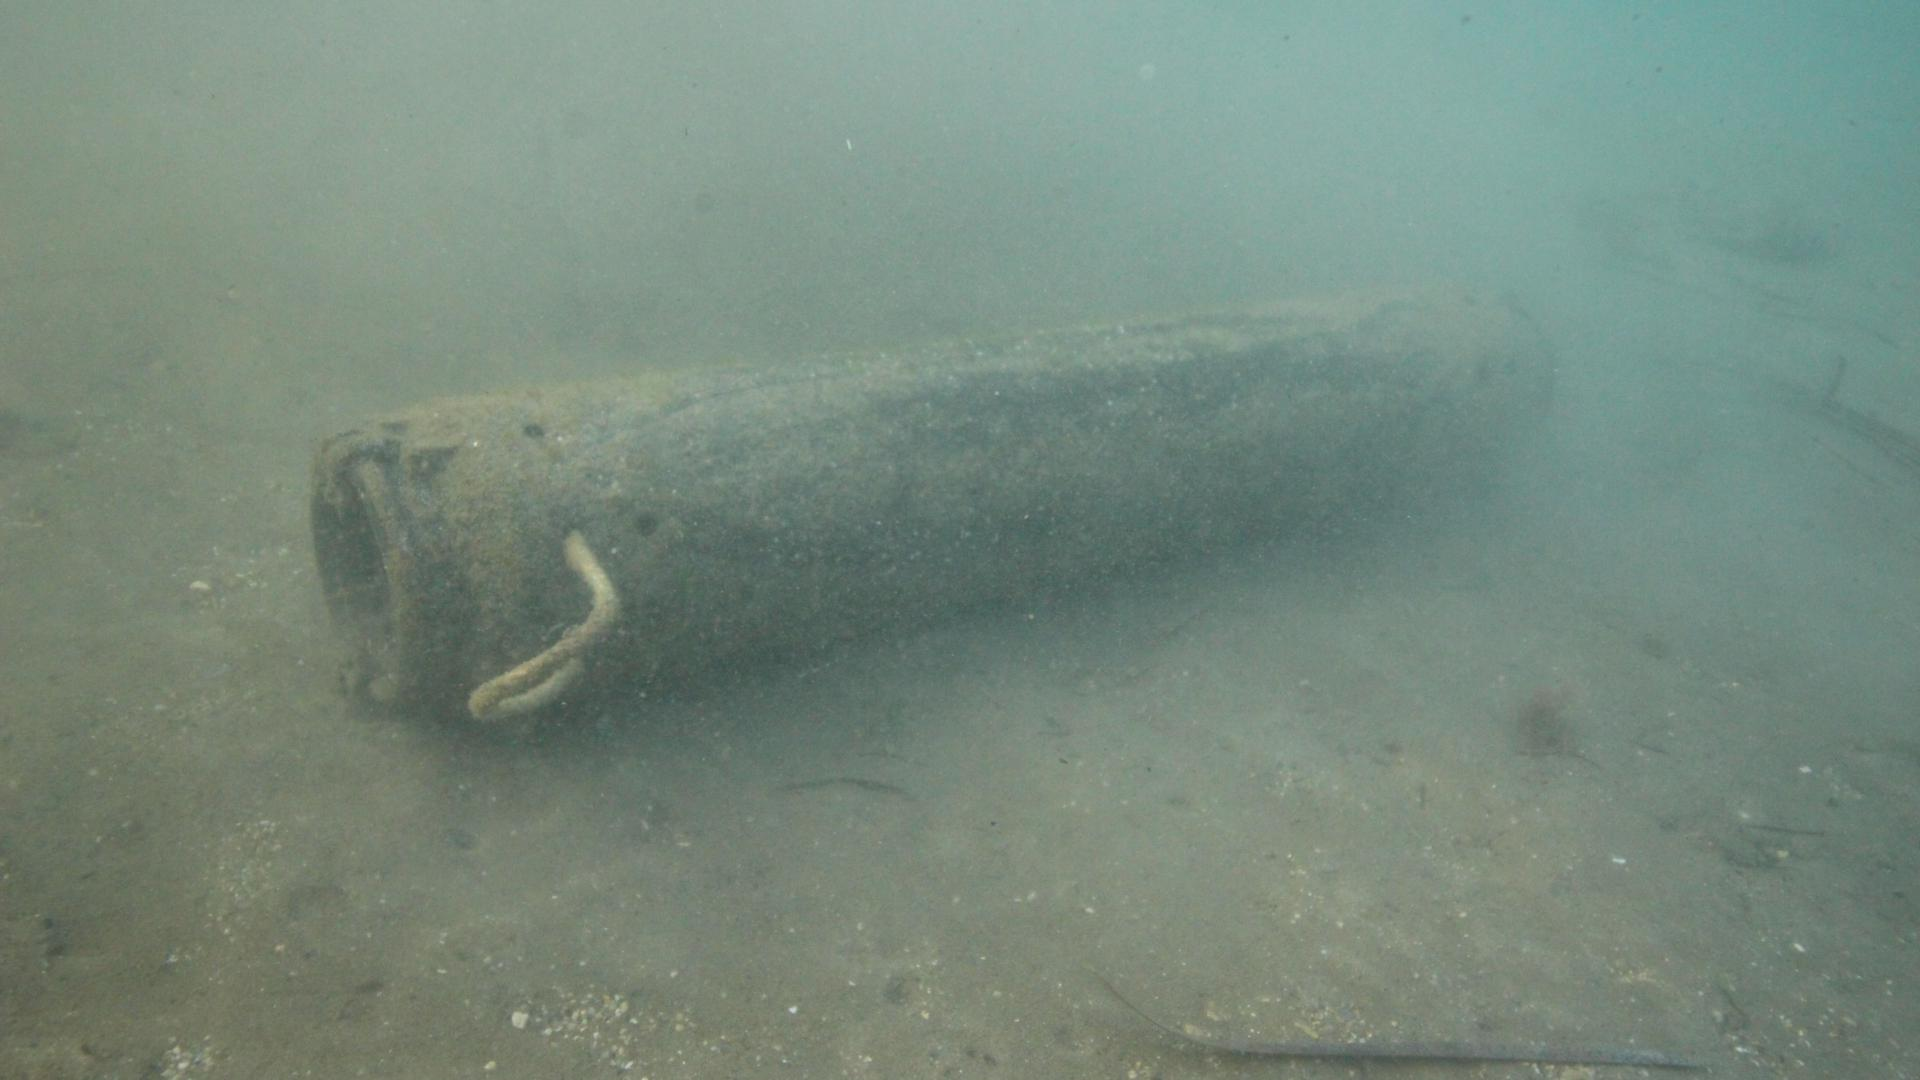eel fish trap: (310, 287, 1551, 708)
rope: (462, 527, 626, 720)
